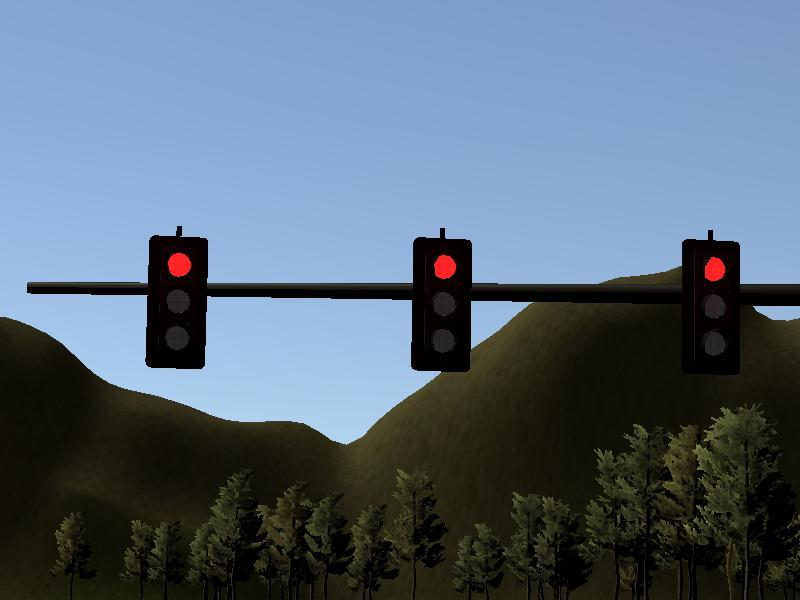Red: (682, 240, 740, 370), (413, 240, 468, 368), (152, 237, 203, 367)
